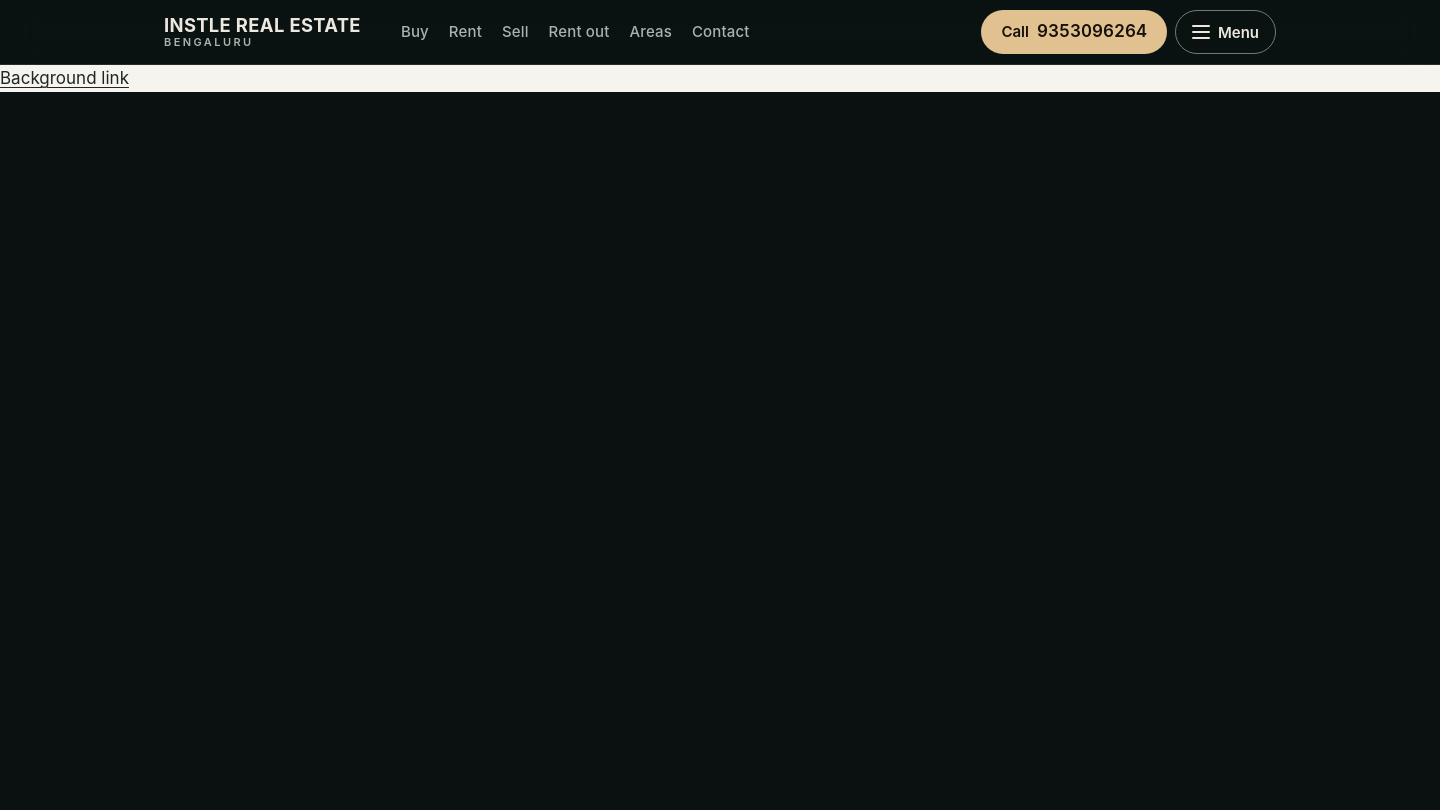
Test: mobile navigation drawer › links the toggle to the drawer it controls
The width and height of the screenshot is (1440, 810).
Step 1. Click the button "Menu" → click(1225, 32), box [1175, 10, 1276, 54]
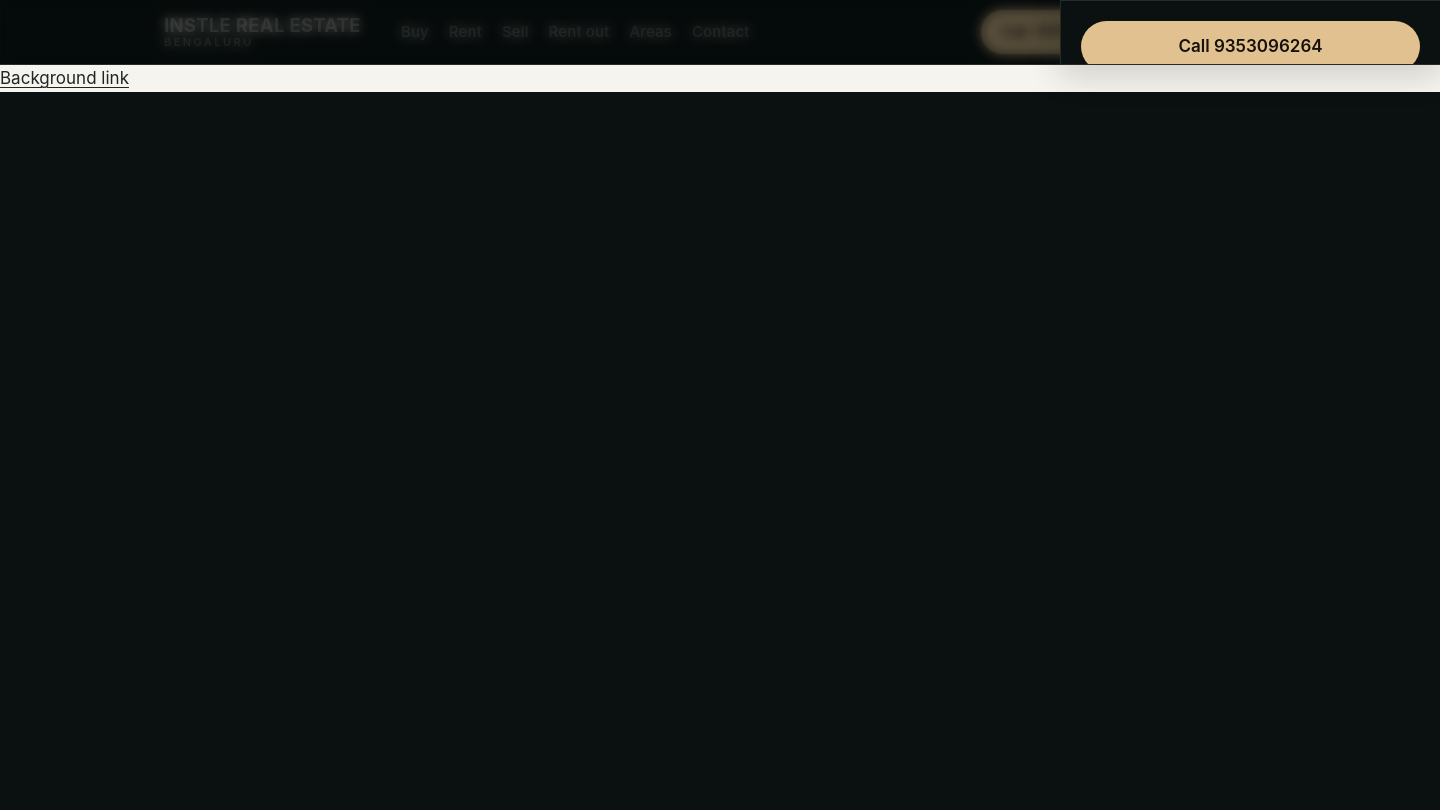
Expected: the button "Menu" is expanded, [1175, 10, 1276, 54]
